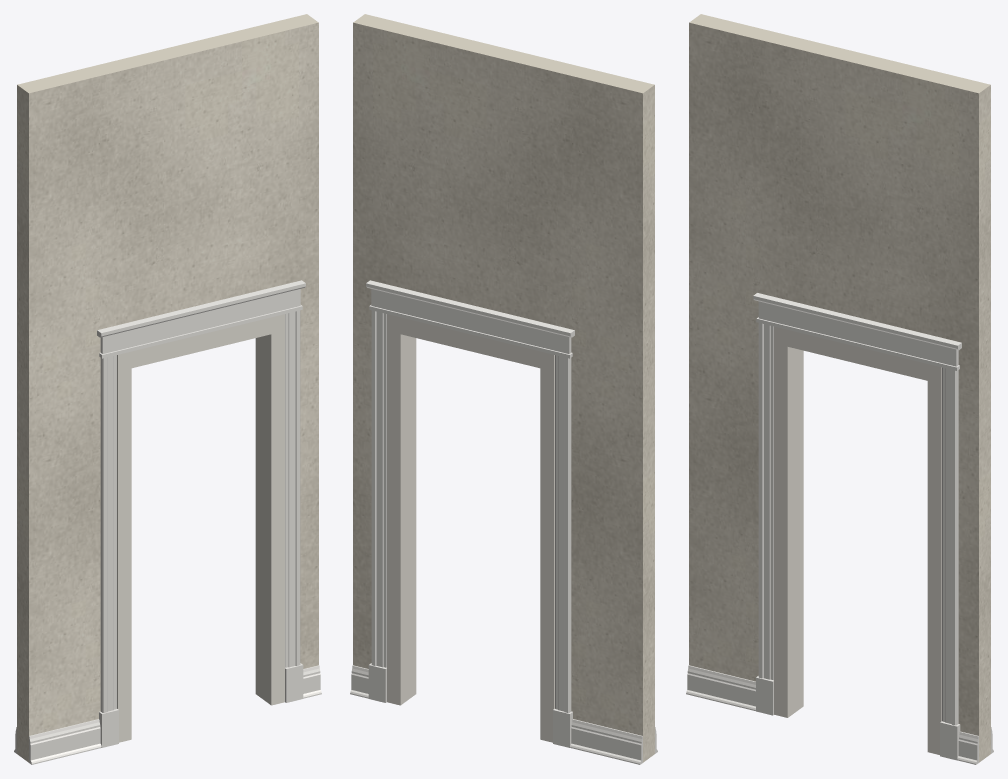
The model's file is interior_wall_end_doorway.glb.
The picture shows the model from 3 angles, left to right: view 1: azimuth 30°, elevation 25°; view 2: azimuth 150°, elevation 25°; view 3: azimuth 330°, elevation 25°; orthographic projection.
Parts seen in each view (by area): view 1: interior_wall_end_doorway_plaster, molduras, interior_wall_end_doorway_frame; view 2: interior_wall_end_doorway_plaster, molduras, interior_wall_end_doorway_frame; view 3: interior_wall_end_doorway_plaster, molduras, interior_wall_end_doorway_frame.
Boxes of the visible parts, x1=… form: interior_wall_end_doorway_plaster: x1=17, y1=14, x2=318, y2=762; molduras: x1=14, y1=280, x2=321, y2=764; interior_wall_end_doorway_frame: x1=117, y1=314, x2=284, y2=742; interior_wall_end_doorway_plaster: x1=353, y1=14, x2=654, y2=762; molduras: x1=350, y1=280, x2=657, y2=764; interior_wall_end_doorway_frame: x1=387, y1=314, x2=554, y2=742; interior_wall_end_doorway_plaster: x1=689, y1=14, x2=990, y2=762; molduras: x1=686, y1=293, x2=993, y2=764; interior_wall_end_doorway_frame: x1=774, y1=326, x2=941, y2=754.
Bounding box in the file's own units: 1.7 × 3.75 × 0.204.
3 materials, 1 textured.
